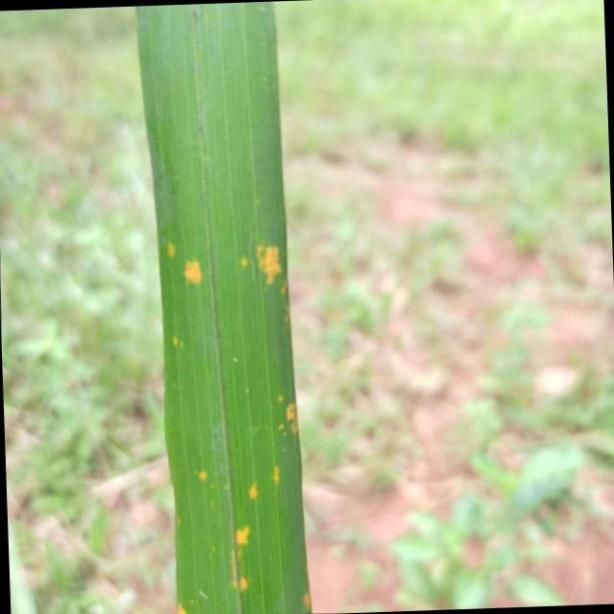Kalium: (137, 1, 307, 614)
